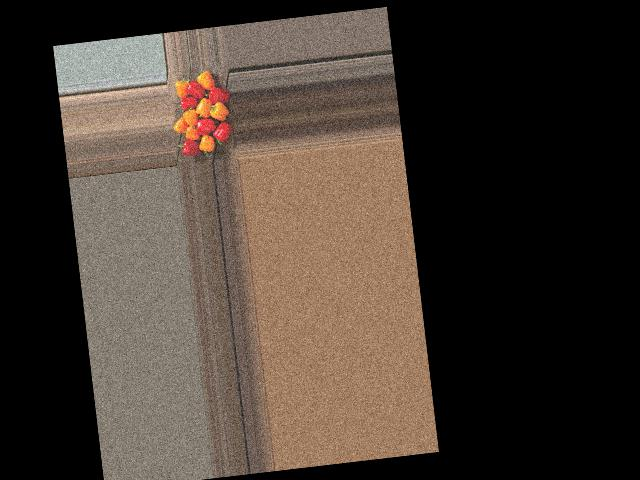bell_pepper: (195, 69, 219, 96)
